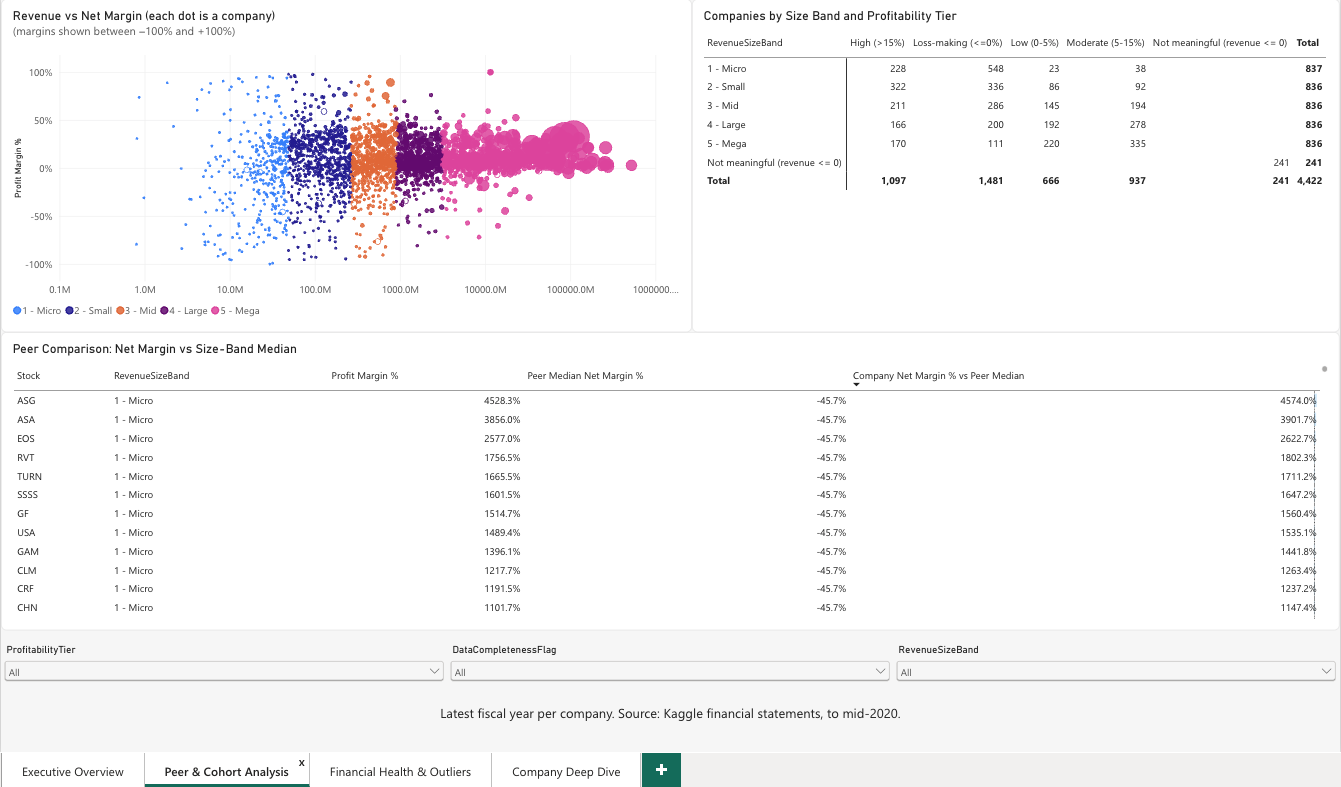

What the dashboard file says about the page in this screenshot:
{"tool":"powerbi","page":{"name":"Peer & Cohort Analysis","canvas":[1920,1080],"ordinal":1},"visuals":[{"type":"group","id":"g1","title":"Group 2","box":[0,925.8,1920,71.9],"z":0},{"type":"slicer","fields":{"Values":["dim_company.RevenueSizeBand"]},"box":[1280,925.8,640,73.3],"z":0,"group":"g1"},{"type":"scatterChart","title":"Revenue vs Net Margin (each dot is a company)","fields":{"Category":["dim_company.Stock"],"Series":["dim_company.RevenueSizeBand"],"Size":["fact_annual.Total Assets"],"X":["fact_annual.Total Revenue"],"Y":["fact_annual.Profit Margin %"]},"box":[0,0,990.6,478.2],"z":1000,"group":"g2"},{"type":"tableEx","title":"Peer Comparison: Net Margin vs Size-Band Median","fields":{"Values":["dim_company.Stock","dim_company.RevenueSizeBand","fact_annual.Profit Margin %","fact_annual.Peer Median Net Margin %","fact_annual.Company Net Margin % vs Peer Median"]},"box":[0,478.2,1920,427.9],"z":1000},{"type":"slicer","fields":{"Values":["dim_company.ProfitabilityTier"]},"box":[0,925.8,640,73.3],"z":1000,"group":"g1"},{"type":"group","id":"g2","title":"Group 1","box":[0,0,1920,478.2],"z":2000},{"type":"pivotTable","title":"Companies by Size Band and Profitability Tier","fields":{"Columns":["dim_company.ProfitabilityTier"],"Rows":["dim_company.RevenueSizeBand"],"Values":["fact_annual.Total Companies"]},"box":[990.6,0,929.4,478.2],"z":2000,"group":"g2"},{"type":"slicer","fields":{"Values":["dim_company.DataCompletenessFlag"]},"box":[640,925.8,640,73.3],"z":2000,"group":"g1"},{"type":"textbox","box":[0,1011.3,1920,49.5],"z":3000}]}

Visuals, with their boxes on the page's 1920x1080 design canvas (x1, y1, x2, y2). These are canvas units, not pixel positions in the 1341x787 screenshot, which may show the page scaled, cropped or inside an application window:
"Group 2" group: [x1=0, y1=926, x2=1920, y2=998]
slicer - dim_company.RevenueSizeBand: [x1=1280, y1=926, x2=1920, y2=999]
"Revenue vs Net Margin (each dot is a company)" scatterChart: [x1=0, y1=0, x2=991, y2=478]
"Peer Comparison: Net Margin vs Size-Band Median" tableEx: [x1=0, y1=478, x2=1920, y2=906]
slicer - dim_company.ProfitabilityTier: [x1=0, y1=926, x2=640, y2=999]
"Group 1" group: [x1=0, y1=0, x2=1920, y2=478]
"Companies by Size Band and Profitability Tier" pivotTable: [x1=991, y1=0, x2=1920, y2=478]
slicer - dim_company.DataCompletenessFlag: [x1=640, y1=926, x2=1280, y2=999]
textbox: [x1=0, y1=1011, x2=1920, y2=1061]
